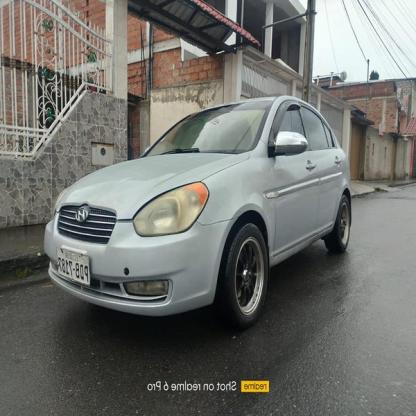Placa: (51, 243, 95, 288)
